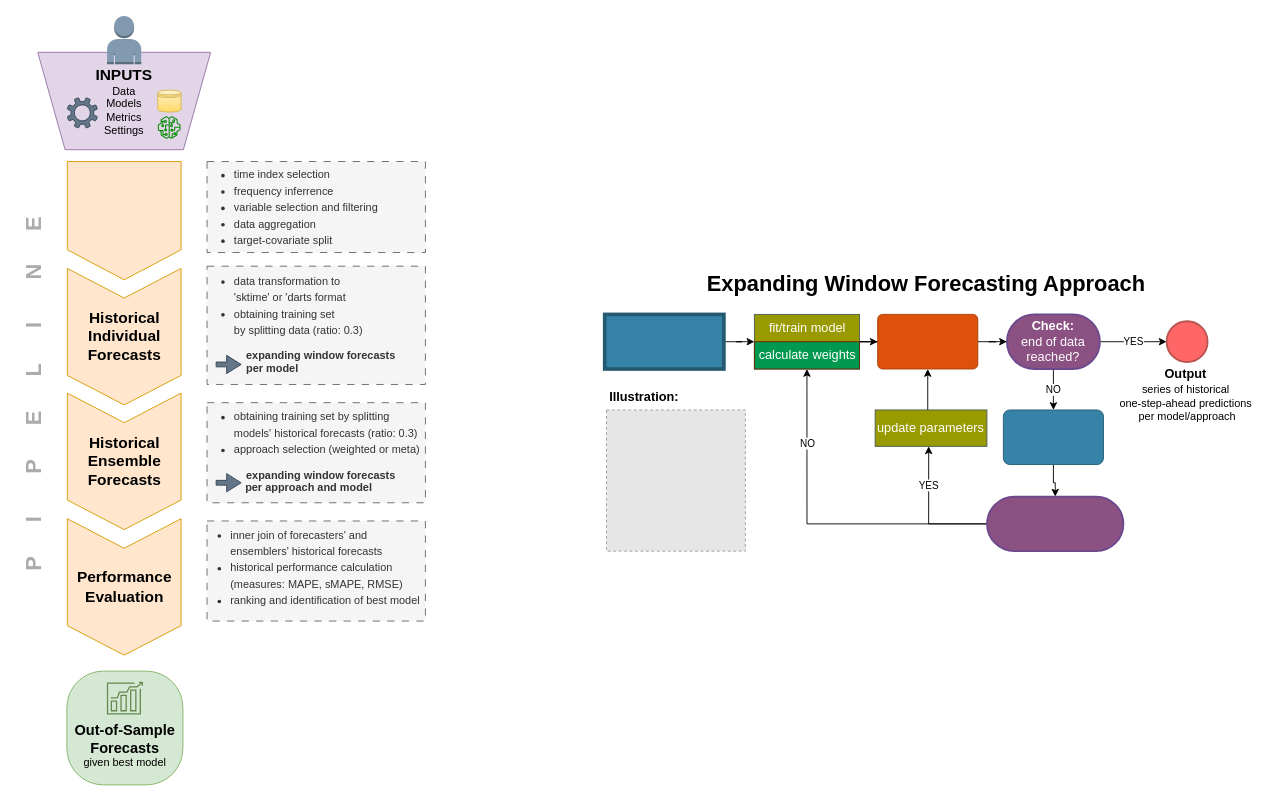
Image size: 1284x801. Some labels were removed from this diagram. Grey dashed boxes stand in for pictures. Here are the shapes that lost their labels. From the top down, the centre of each, then its label:
pixel 123 220: Data Preprocessing
pixel 663 341: Input Initial training set given split ratio
pixel 927 341: in-sample one-step ahead prediction
pixel 1186 341: STOP
pixel 1052 437: extend training set by one observaton
pixel 1055 523: Check: model refit interval set and reached?
